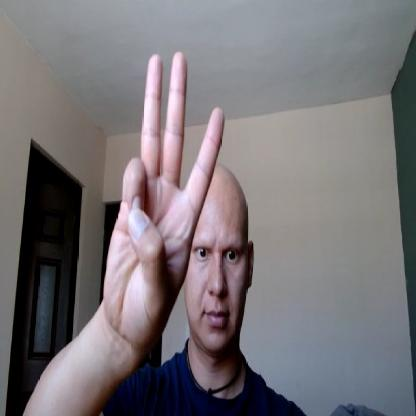W: (105, 48, 225, 336)
